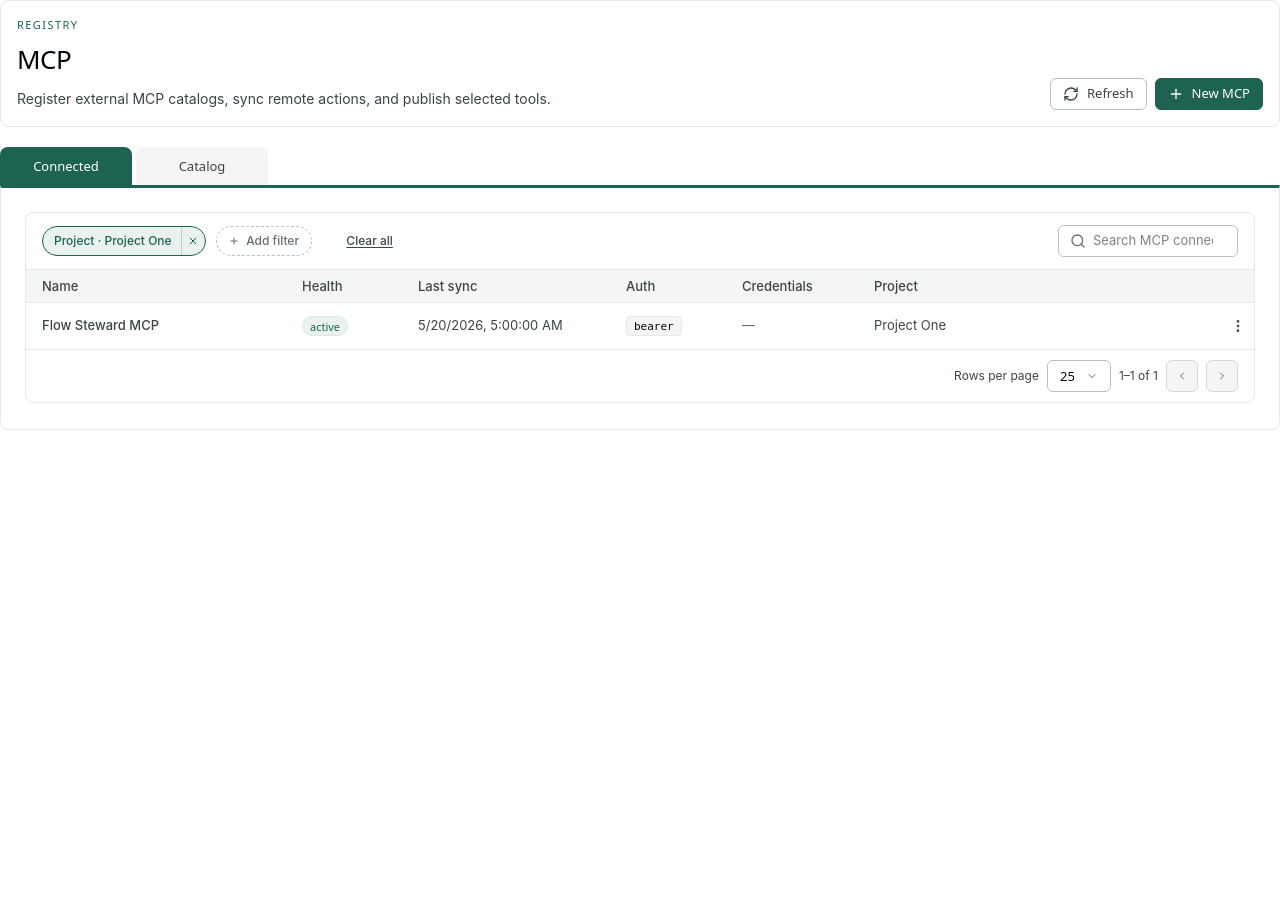
RegistryMcpPage › opens the custom form on Name with empty generic defaults and no template picker
Click the button "New MCP". click: (1209, 94)
box: [1155, 78, 1263, 110]
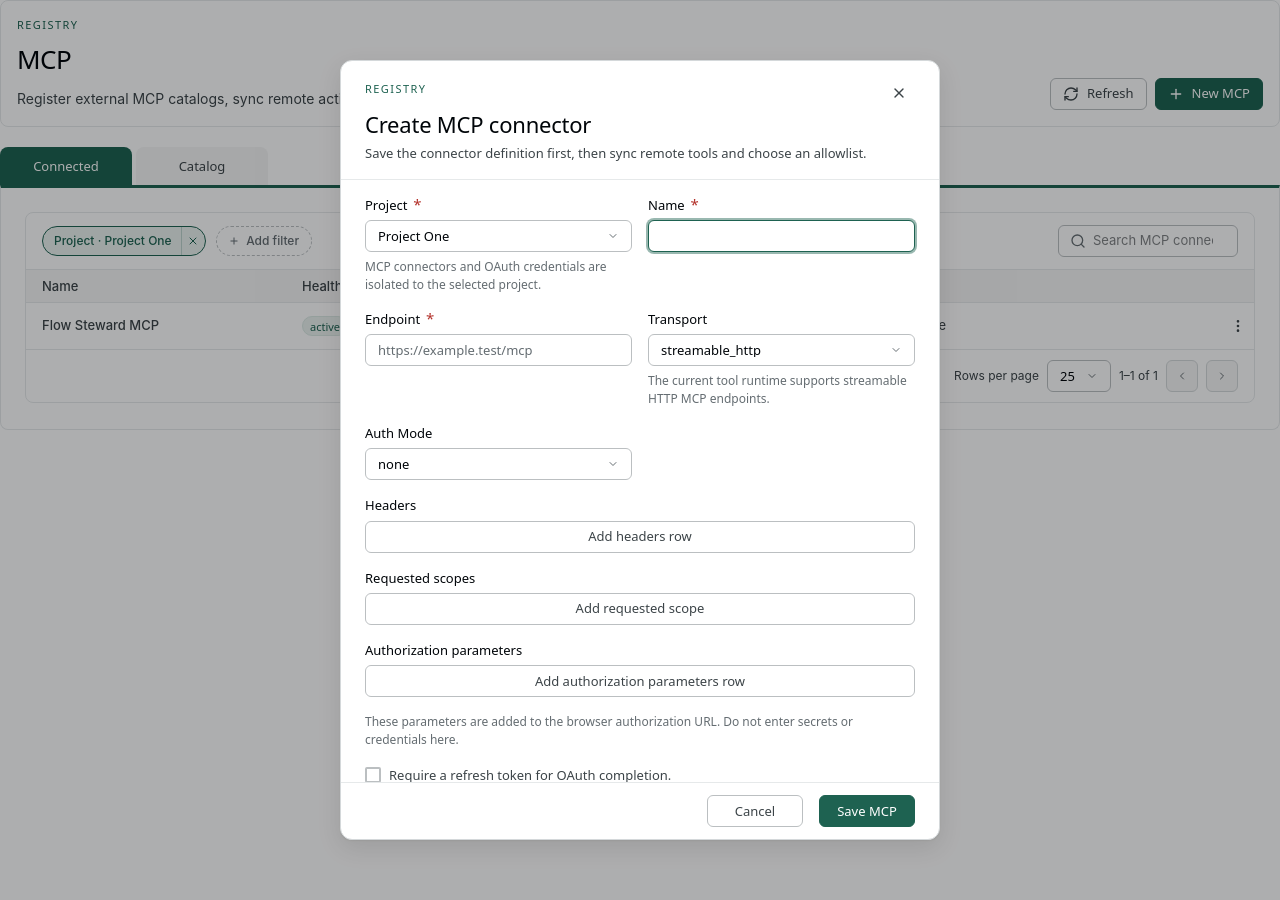
Expected: the field labelled "Endpoint" is empty, [365, 334, 632, 366]
Expected: the dropdown named "Auth Mode" reads "none", [365, 448, 632, 480]
